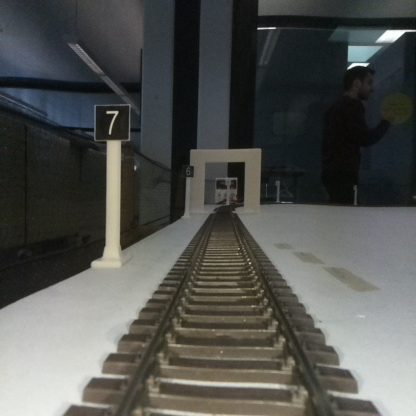black-info-6: (182, 164, 194, 218)
black-info-7: (94, 105, 128, 266)
